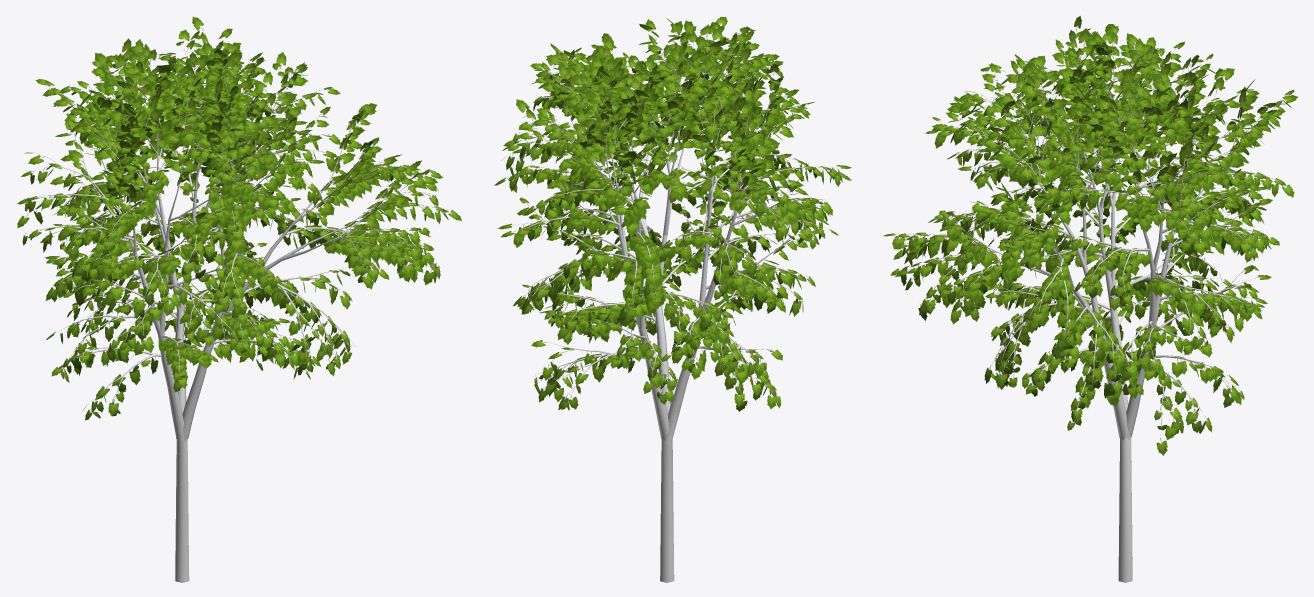
Rendered from tree2.glb.
3 renders of one model, left to right at view 1: azimuth 30°, elevation 25°; view 2: azimuth 150°, elevation 25°; view 3: azimuth 270°, elevation 25°, orthographic.
Visible parts, largest first — view 1: leaves, tree; view 2: leaves, tree; view 3: leaves, tree.
Part boxes in pixels (x1=…): leaves: x1=17, y1=16, x2=461, y2=420; tree: x1=29, y1=35, x2=444, y2=582; leaves: x1=494, y1=17, x2=851, y2=411; tree: x1=511, y1=30, x2=834, y2=582; leaves: x1=883, y1=16, x2=1298, y2=455; tree: x1=902, y1=32, x2=1281, y2=582.
Size of the model in its own units: 16.43 by 23.5 by 16.6.
Materials: 2 (1 with a texture image).
